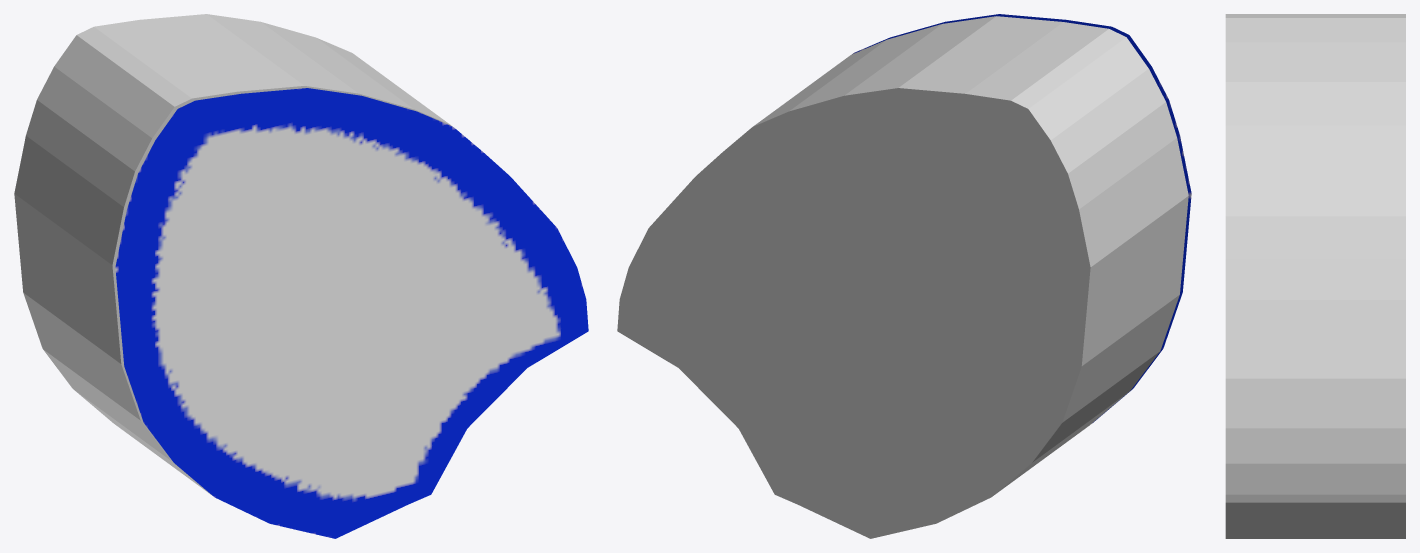
3 views of the same model, side by side, from view 1: azimuth 30°, elevation 25°; view 2: azimuth 150°, elevation 25°; view 3: azimuth 270°, elevation 25° (orthographic). The views are drawn at different scales.
Visible parts, largest first — view 1: In1_1, In1_0; view 2: In1_0, In1_1; view 3: In1_0.
Part boxes in pixels (left/top/right/bottom): In1_1: left=115, top=88, right=588, bottom=538; In1_0: left=14, top=14, right=452, bottom=494; In1_0: left=617, top=16, right=1188, bottom=538; In1_1: left=852, top=14, right=1191, bottom=423; In1_0: left=1225, top=14, right=1405, bottom=538.
Size of the model in its own units: 1.39 by 1.33 by 0.515.
2 materials, 1 textured.
